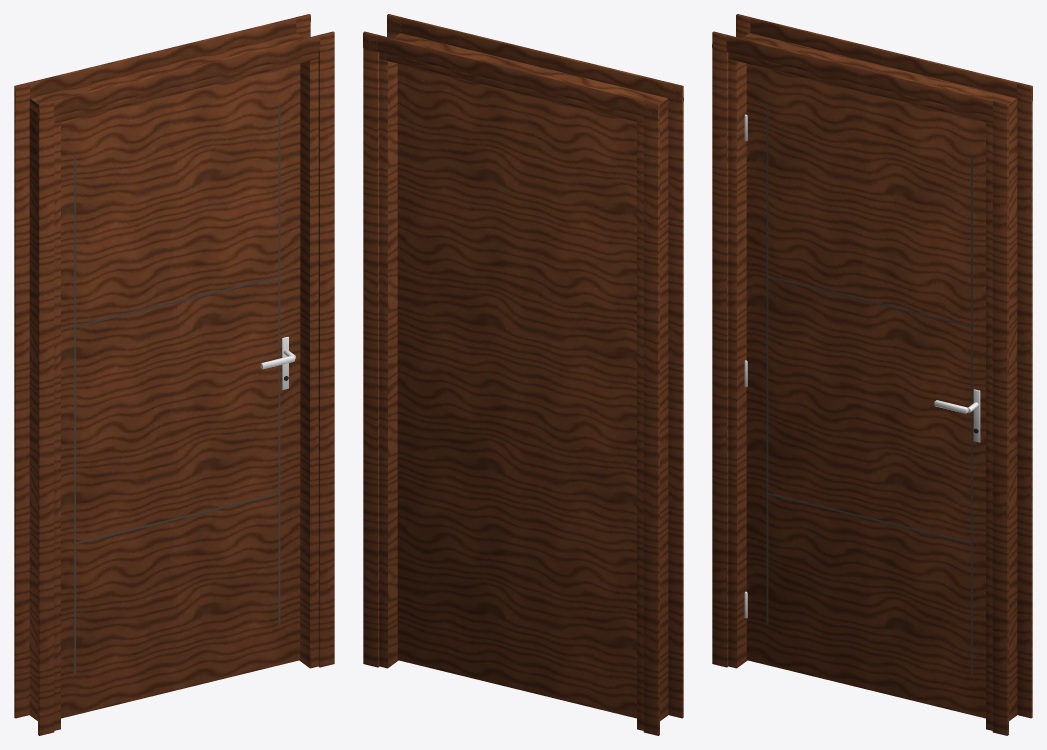
The model's file is ESQ-PMD-003_lod1.glb.
3 views of the same model, side by side, from view 1: azimuth 30°, elevation 25°; view 2: azimuth 150°, elevation 25°; view 3: azimuth 330°, elevation 25° (orthographic).
Parts seen in each view (by area): view 1: ESQ-PMD-003_folha, ESQ-PMD-003_batente_d, ESQ-PMD-003_guarnicao_d-1, ESQ-PMD-003_guarnicao_e-1, ESQ-PMD-003_guarnicao_e1, ESQ-PMD-003_batente_e, ESQ-PMD-003_guarnicao_c-1, ESQ-PMD-003_guarnicao_c1, ESQ-PMD-003_batente_c, ESQ-PMD-003_friso_v1, ESQ-PMD-003_friso_v-1; view 2: ESQ-PMD-003_folha, ESQ-PMD-003_batente_d, ESQ-PMD-003_guarnicao_d1, ESQ-PMD-003_guarnicao_e1, ESQ-PMD-003_guarnicao_e-1, ESQ-PMD-003_batente_e, ESQ-PMD-003_guarnicao_c1, ESQ-PMD-003_guarnicao_c-1, ESQ-PMD-003_batente_c; view 3: ESQ-PMD-003_folha, ESQ-PMD-003_batente_e, ESQ-PMD-003_guarnicao_d-1, ESQ-PMD-003_guarnicao_e-1, ESQ-PMD-003_guarnicao_d1, ESQ-PMD-003_batente_d, ESQ-PMD-003_guarnicao_c-1, ESQ-PMD-003_guarnicao_c1, ESQ-PMD-003_batente_c, ESQ-PMD-003_friso_v-1, ESQ-PMD-003_friso_v1.
Boxes of the visible parts, <box> form: ESQ-PMD-003_folha: <box>61,63,300,718</box>; ESQ-PMD-003_batente_d: <box>289,35,318,668</box>; ESQ-PMD-003_guarnicao_d-1: <box>318,31,334,667</box>; ESQ-PMD-003_guarnicao_e-1: <box>38,100,54,735</box>; ESQ-PMD-003_guarnicao_e1: <box>14,82,29,718</box>; ESQ-PMD-003_batente_e: <box>29,98,60,730</box>; ESQ-PMD-003_guarnicao_c-1: <box>38,35,320,119</box>; ESQ-PMD-003_guarnicao_c1: <box>14,15,310,102</box>; ESQ-PMD-003_batente_c: <box>29,33,318,123</box>; ESQ-PMD-003_friso_v1: <box>278,104,280,624</box>; ESQ-PMD-003_friso_v-1: <box>74,154,75,674</box>; ESQ-PMD-003_folha: <box>397,63,636,718</box>; ESQ-PMD-003_batente_d: <box>379,53,398,668</box>; ESQ-PMD-003_guarnicao_d1: <box>363,31,379,667</box>; ESQ-PMD-003_guarnicao_e1: <box>643,100,659,735</box>; ESQ-PMD-003_guarnicao_e-1: <box>667,82,683,718</box>; ESQ-PMD-003_batente_e: <box>637,98,668,730</box>; ESQ-PMD-003_guarnicao_c1: <box>363,33,659,119</box>; ESQ-PMD-003_guarnicao_c-1: <box>387,15,683,101</box>; ESQ-PMD-003_batente_c: <box>379,33,668,122</box>; ESQ-PMD-003_folha: <box>746,63,985,718</box>; ESQ-PMD-003_batente_e: <box>728,33,749,668</box>; ESQ-PMD-003_guarnicao_d-1: <box>992,100,1008,735</box>; ESQ-PMD-003_guarnicao_e-1: <box>712,31,728,667</box>; ESQ-PMD-003_guarnicao_d1: <box>1016,82,1032,718</box>; ESQ-PMD-003_batente_d: <box>986,96,1017,730</box>; ESQ-PMD-003_guarnicao_c-1: <box>712,35,1008,118</box>; ESQ-PMD-003_guarnicao_c1: <box>736,17,1032,100</box>; ESQ-PMD-003_batente_c: <box>728,33,1016,123</box>; ESQ-PMD-003_friso_v-1: <box>766,104,768,624</box>; ESQ-PMD-003_friso_v1: <box>971,154,972,674</box>.
Size of the model in its own units: 1.07 by 2.18 by 0.1655.
4 materials, 1 textured.
